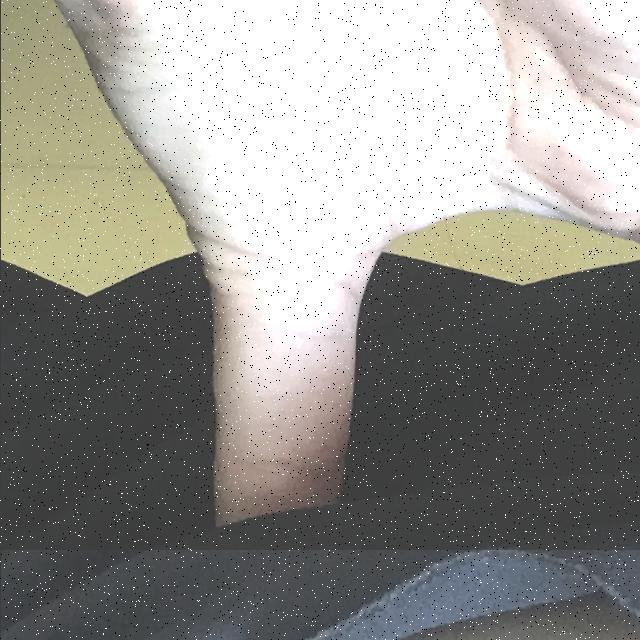mendengar: (0, 0, 640, 550)
